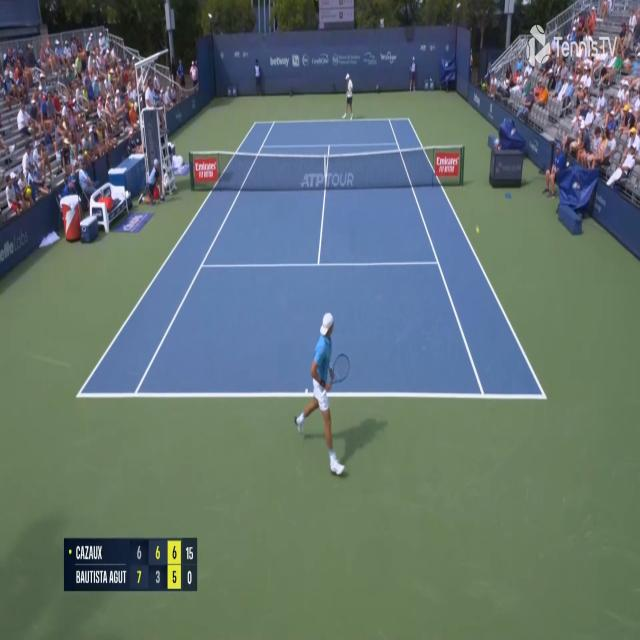tennis-player: (294, 308, 353, 481), (343, 72, 354, 122)
